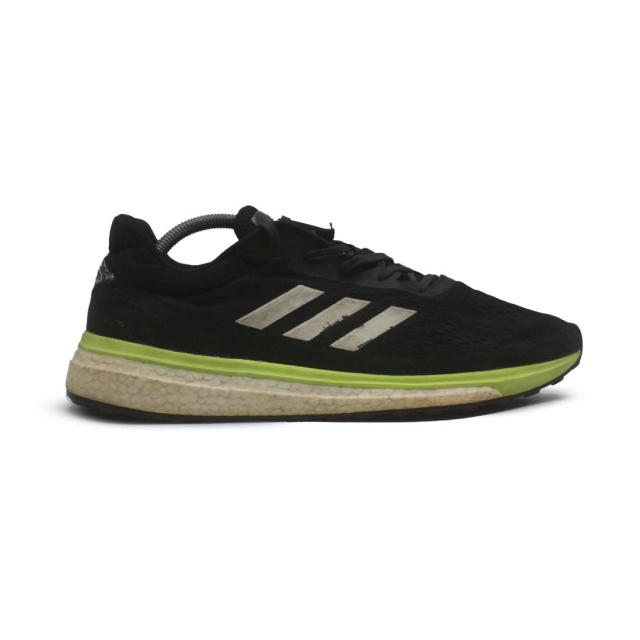heel: (85, 213, 202, 352)
midsole: (69, 333, 584, 418)
uppersole: (174, 204, 580, 371)
